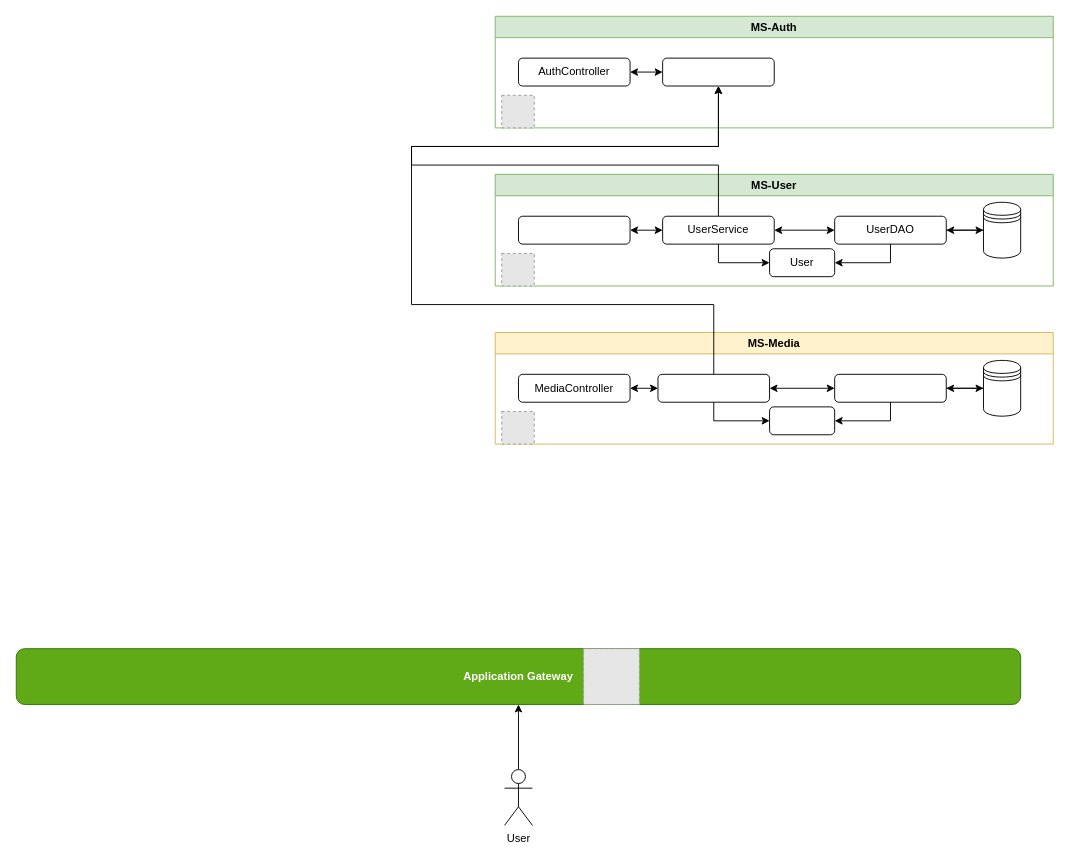
This 1070x861 diagram has some shape labels left out. Grey dashed boxes stand in for pictures. The centre of each missing label's shape, as x and y in pixels:
"AuthService" goes at [718,71].
"Media" goes at [802,420].
"MediaDAO" goes at [890,387].
"MediaService" goes at [713,387].
"UserController" goes at [574,229].
